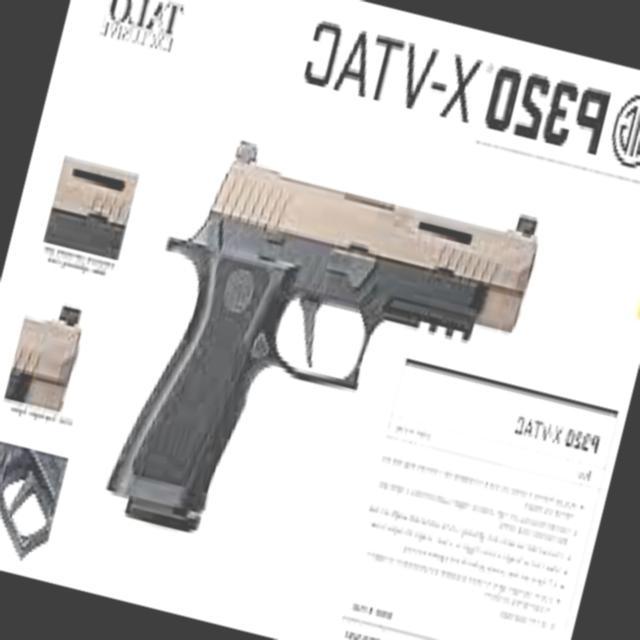semi automatic: (74, 100, 560, 620)
